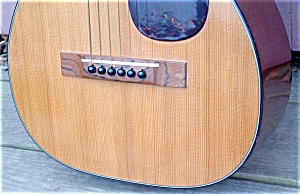guitar: (6, 1, 293, 190)
